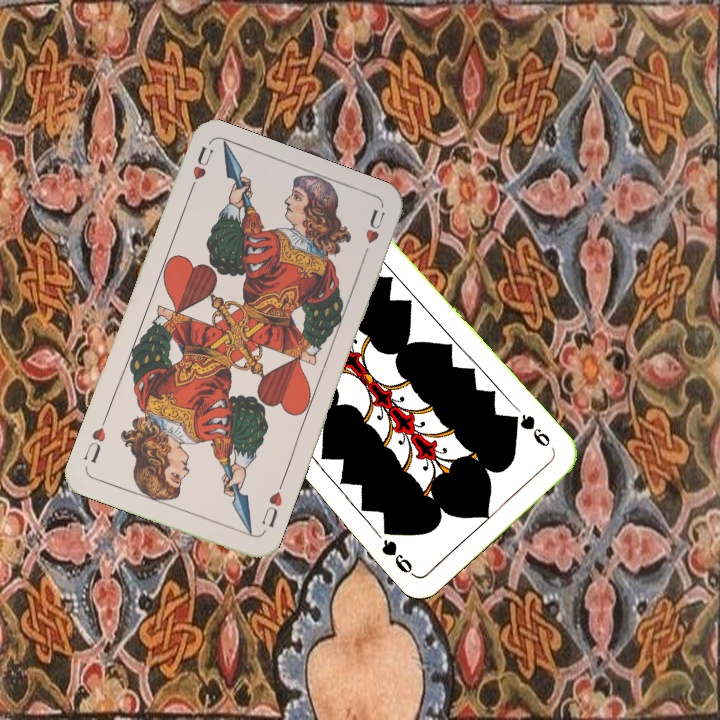G9: (507, 410, 553, 450)
HU: (184, 142, 216, 198), (258, 478, 286, 530)
